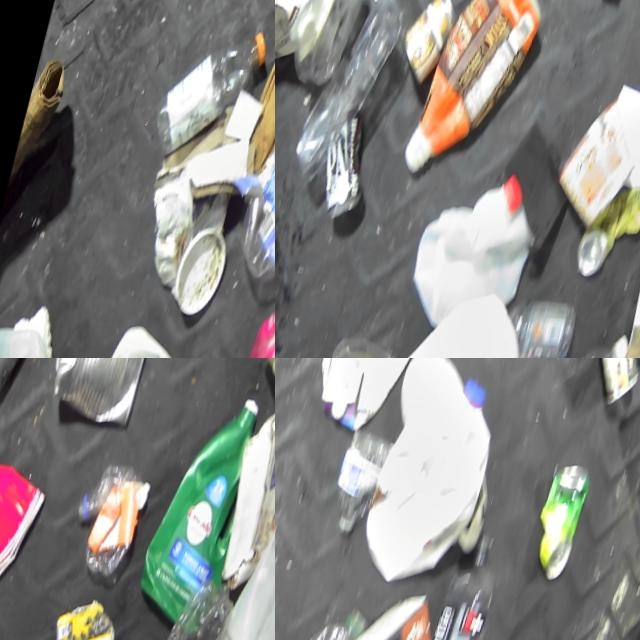can: (34, 358, 183, 443), (526, 455, 594, 585), (402, 0, 461, 81)
milk_jug: (354, 358, 508, 605), (408, 150, 560, 348), (205, 476, 275, 640), (0, 308, 61, 358)
non_white_jug: (131, 387, 263, 640), (402, 0, 551, 188)
plastic_bottle: (149, 10, 273, 177), (294, 0, 407, 183), (325, 408, 401, 553), (419, 533, 504, 640), (275, 586, 375, 640), (529, 316, 631, 358)
